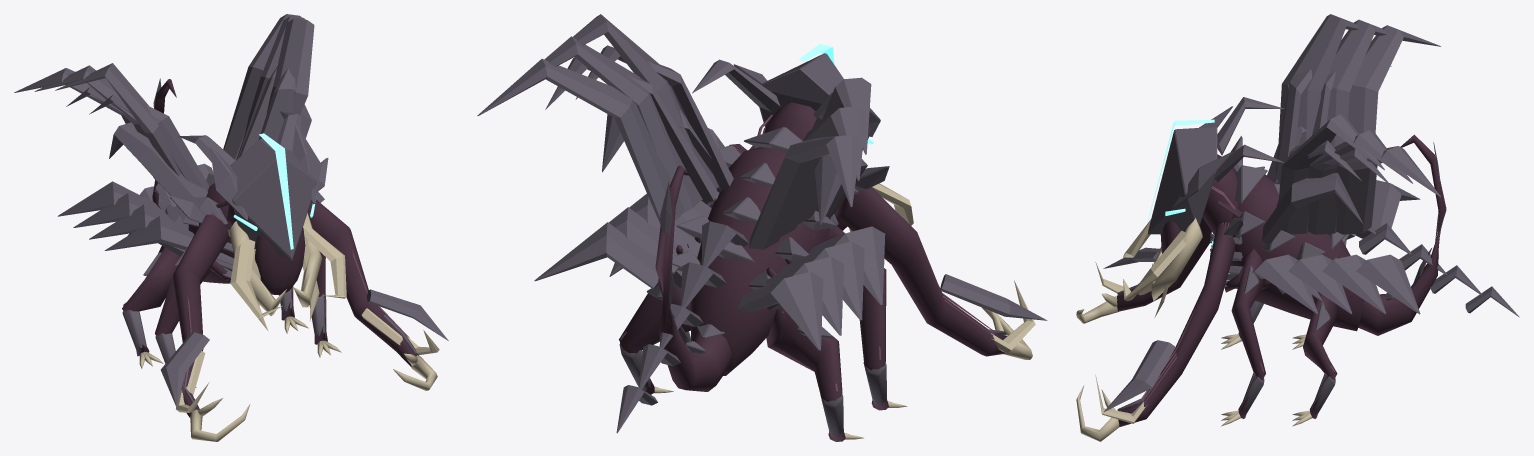
The model's file is tendon-stalker-apex-blockout.glb.
The picture shows the model from 3 angles, left to right: view 1: azimuth 30°, elevation 25°; view 2: azimuth 150°, elevation 25°; view 3: azimuth 270°, elevation 25°; orthographic projection. The views are drawn at different scales.
Visible parts, largest first — view 1: Apex | adult-derived anatomical foundation, Apex | mantle arch R.0, Apex | mantle arch L.0, Apex | mantle arch R.2, Apex | lateral carapace L.0, Apex | capture forearm blade L, Apex | jaw guard L, Apex | jaw guard R, Apex | lateral carapace L.3, Apex | capture forearm blade R, Apex | lateral carapace L.2, Apex | mantle arch R.1 (+3 smaller); view 2: Apex | adult-derived anatomical foundation, Apex | mantle arch R.2, Apex | mantle arch L.2, Apex | mantle arch R.1, Apex | lateral carapace L.3, Apex | lateral carapace R.3, Apex | mantle arch R.0, Apex | mantle arch L.1, Apex | lateral carapace L.1, Apex | lateral carapace L.2, Apex | lateral carapace L.0, Apex | capture forearm blade L (+9 smaller); view 3: Apex | adult-derived anatomical foundation, Apex | mantle arch L.0, Apex | mantle arch R.2, Apex | mantle arch L.2, Apex | mantle arch R.0, Apex | mantle arch L.1, Apex | mantle arch R.1, Apex | lateral carapace R.3, Apex | capture forearm blade R, Apex | lateral carapace R.0, Apex | lateral carapace R.1, Apex | lateral carapace R.2 (+7 smaller).
Boxes of the visible parts, x1,y1,x2,y2 form: Apex | adult-derived anatomical foundation: (66, 66, 439, 441); Apex | mantle arch R.0: (266, 19, 314, 114); Apex | mantle arch L.0: (55, 63, 180, 176); Apex | mantle arch R.2: (223, 14, 301, 160); Apex | lateral carapace L.0: (104, 216, 194, 250); Apex | capture forearm blade L: (160, 332, 209, 407); Apex | jaw guard L: (230, 239, 282, 319); Apex | jaw guard R: (303, 224, 346, 298); Apex | lateral carapace L.3: (57, 181, 159, 216); Apex | capture forearm blade R: (367, 289, 448, 340); Apex | lateral carapace L.2: (73, 193, 168, 227); Apex | mantle arch R.1: (236, 16, 305, 159); Apex | adult-derived anatomical foundation: (545, 44, 1035, 441); Apex | mantle arch R.2: (477, 59, 685, 224); Apex | mantle arch L.2: (749, 134, 861, 249); Apex | mantle arch R.1: (544, 36, 701, 213); Apex | lateral carapace L.3: (738, 271, 823, 350); Apex | lateral carapace R.3: (534, 222, 658, 289); Apex | mantle arch R.0: (573, 14, 718, 200); Apex | mantle arch L.1: (781, 106, 866, 236); Apex | lateral carapace L.1: (781, 241, 864, 320); Apex | lateral carapace L.2: (761, 256, 843, 335); Apex | lateral carapace L.0: (809, 226, 885, 305); Apex | capture forearm blade L: (940, 274, 1047, 320); Apex | adult-derived anatomical foundation: (1076, 66, 1446, 441); Apex | mantle arch L.0: (1278, 14, 1358, 146); Apex | mantle arch R.2: (1335, 146, 1440, 234); Apex | mantle arch L.2: (1348, 25, 1440, 134); Apex | mantle arch R.0: (1278, 114, 1384, 234); Apex | mantle arch L.1: (1326, 19, 1386, 147); Apex | mantle arch R.1: (1307, 130, 1412, 234); Apex | lateral carapace R.3: (1356, 254, 1420, 314); Apex | capture forearm blade R: (1103, 340, 1175, 412); Apex | lateral carapace R.0: (1252, 254, 1318, 314); Apex | lateral carapace R.1: (1288, 254, 1352, 314); Apex | lateral carapace R.2: (1322, 254, 1386, 314).
Size of the model in its own units: 3.05 by 2.97 by 3.78.
